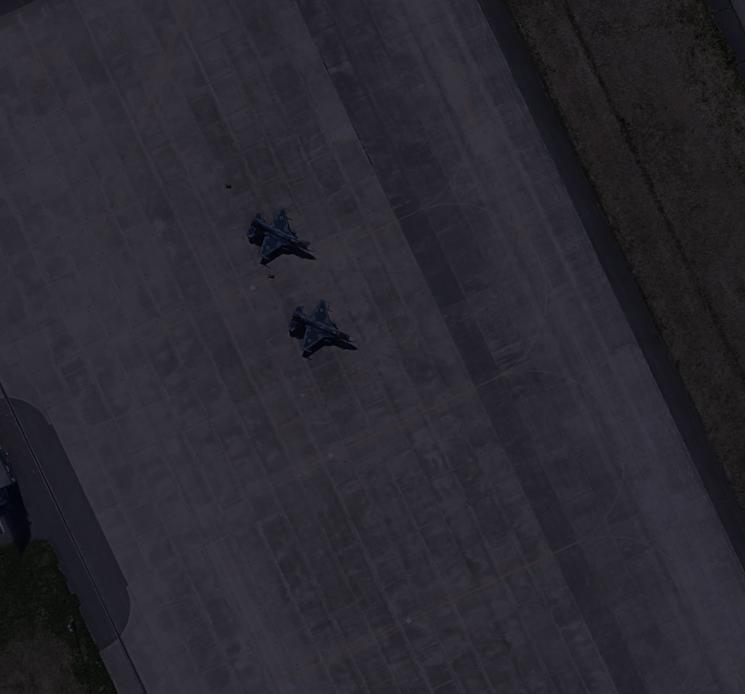A5: (287, 296, 359, 358), (247, 204, 312, 264)
